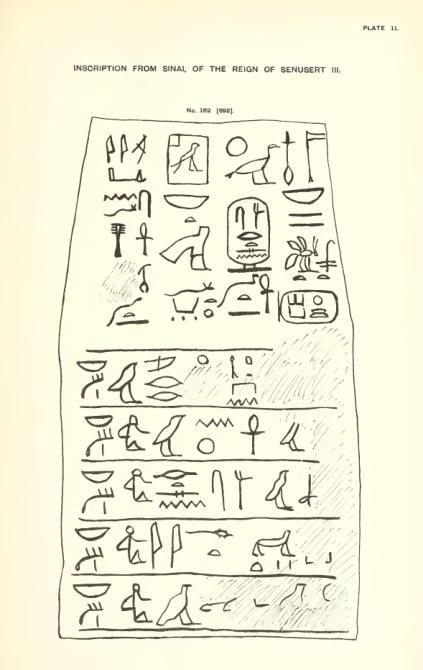circle: (223, 196, 275, 276), (275, 289, 343, 327)
